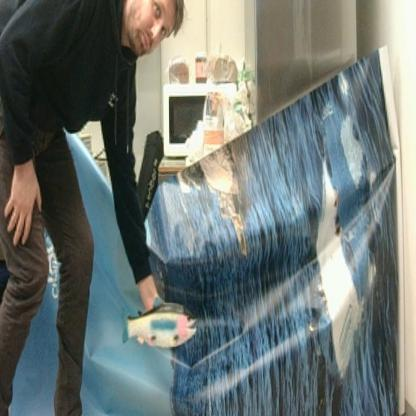rubberfish: (122, 296, 197, 349)
